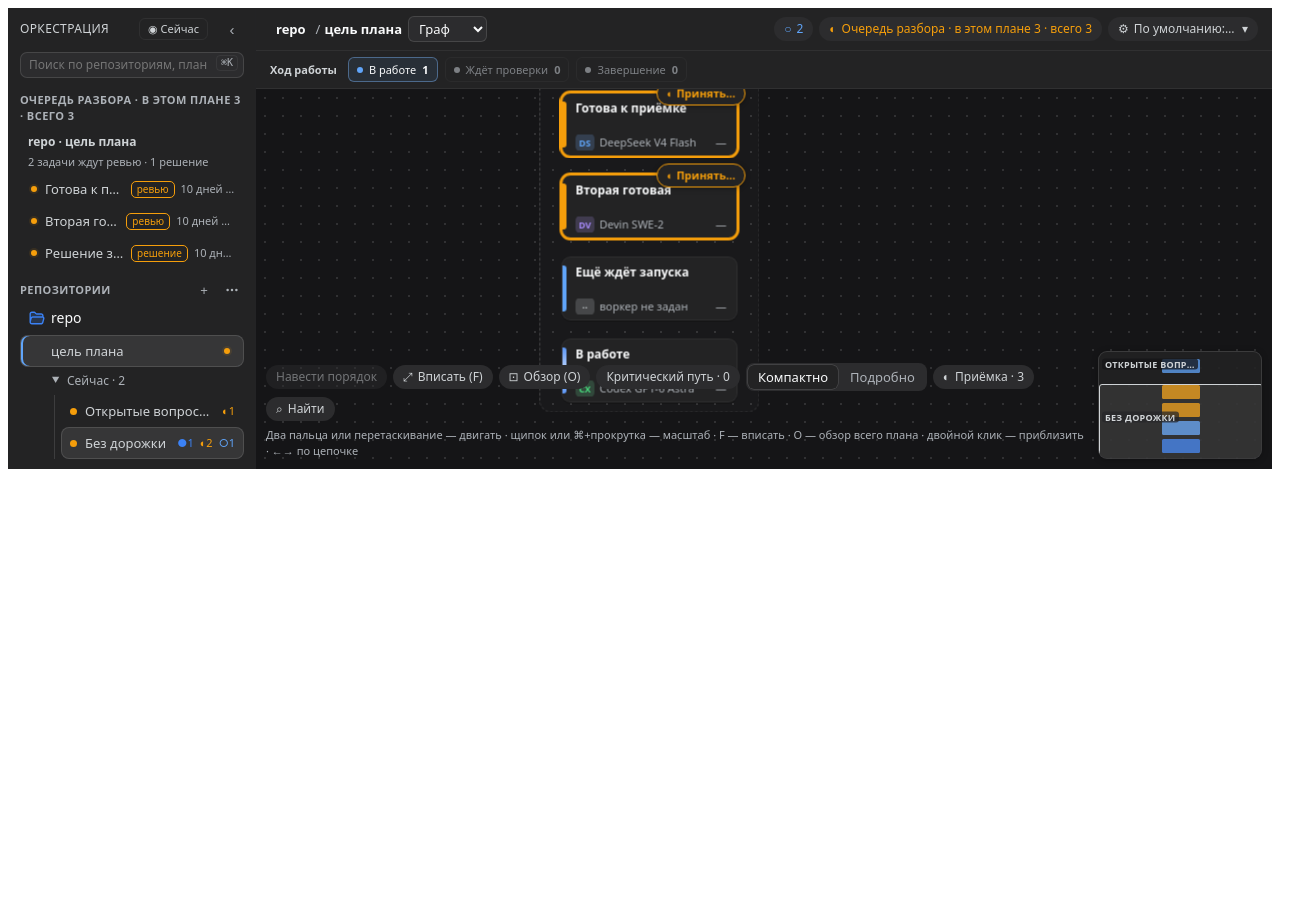
Test: counts in_review tasks and ready human decisions in the header pill
What coordinates should you click on to do the following:
click the button "◐ Очередь разбора · в этом плане 3 · всего 3"
I would click on:
 (961, 29)
Its box is [819,17,1102,41].
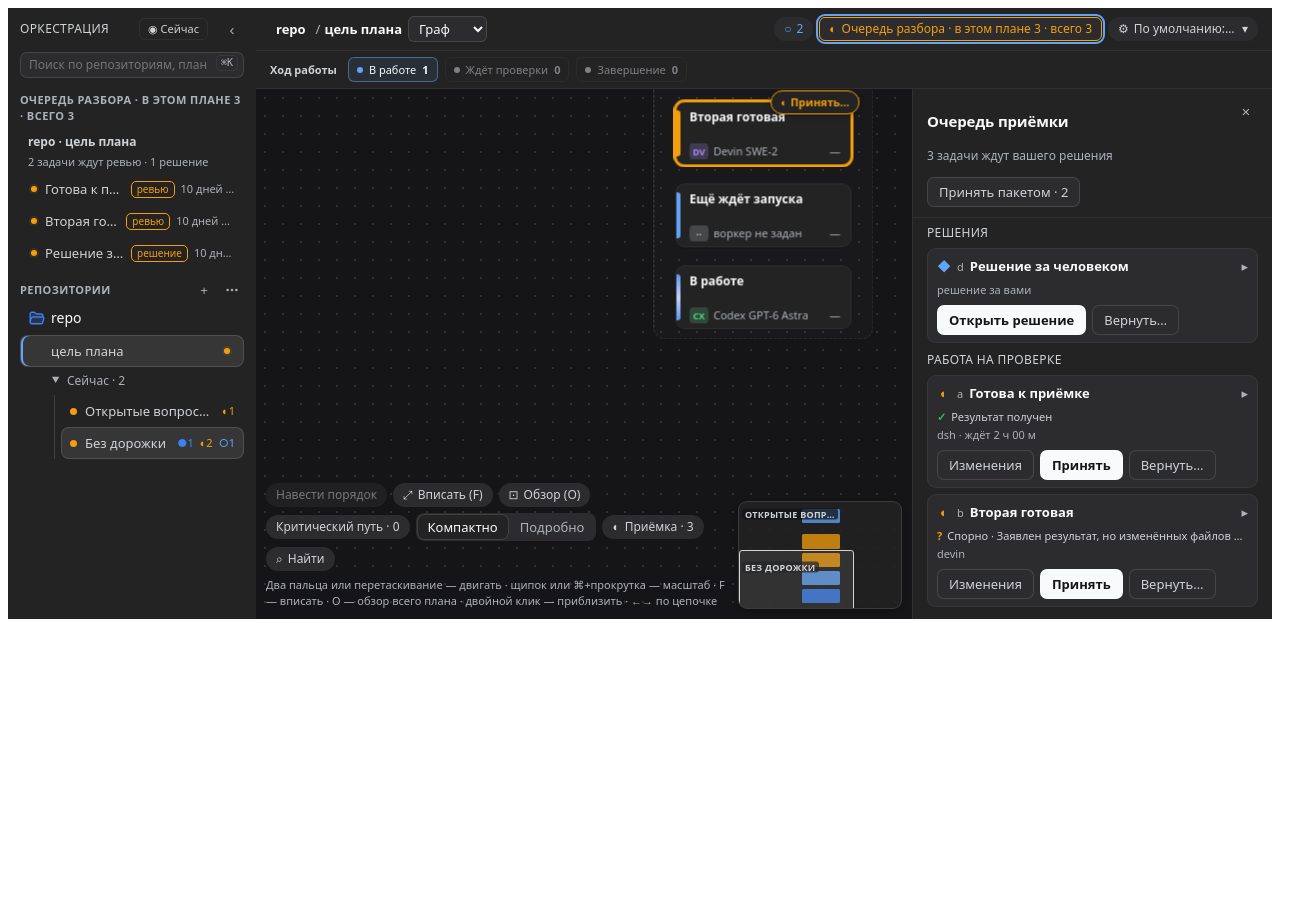
Expected: the text "Готова к приёмке" below "Работа на проверке" is shown, [969,384,1090,402]
Result: the text "Вторая готовая" below "dsh · ждёт 2 ч 00 м" is shown at [970,503,1074,521]
Result: the text "Решение за человеком" below "3 задачи ждут вашего решения" is shown at [970,257,1129,275]
